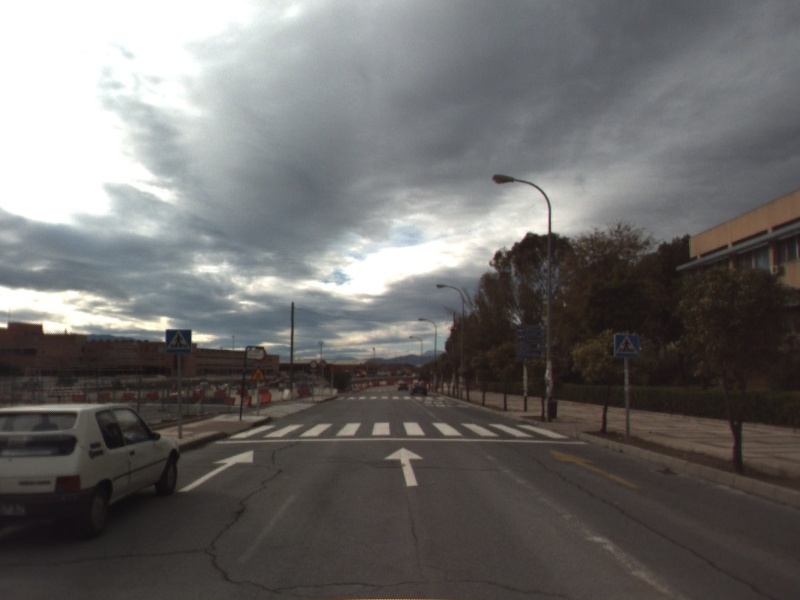STRAIGHT: (548, 447, 643, 491), (175, 448, 255, 494), (382, 445, 426, 488)
